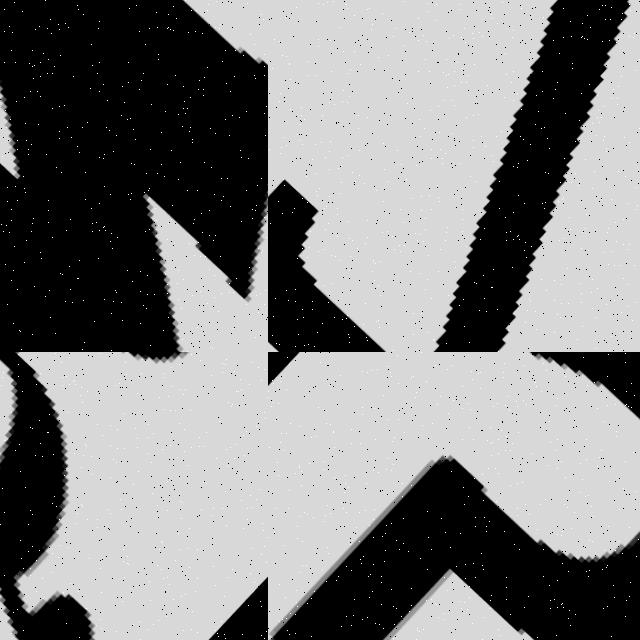5: (268, 352, 640, 640)
7: (268, 0, 640, 352)
G: (0, 352, 268, 640)
Z: (0, 0, 268, 352)
